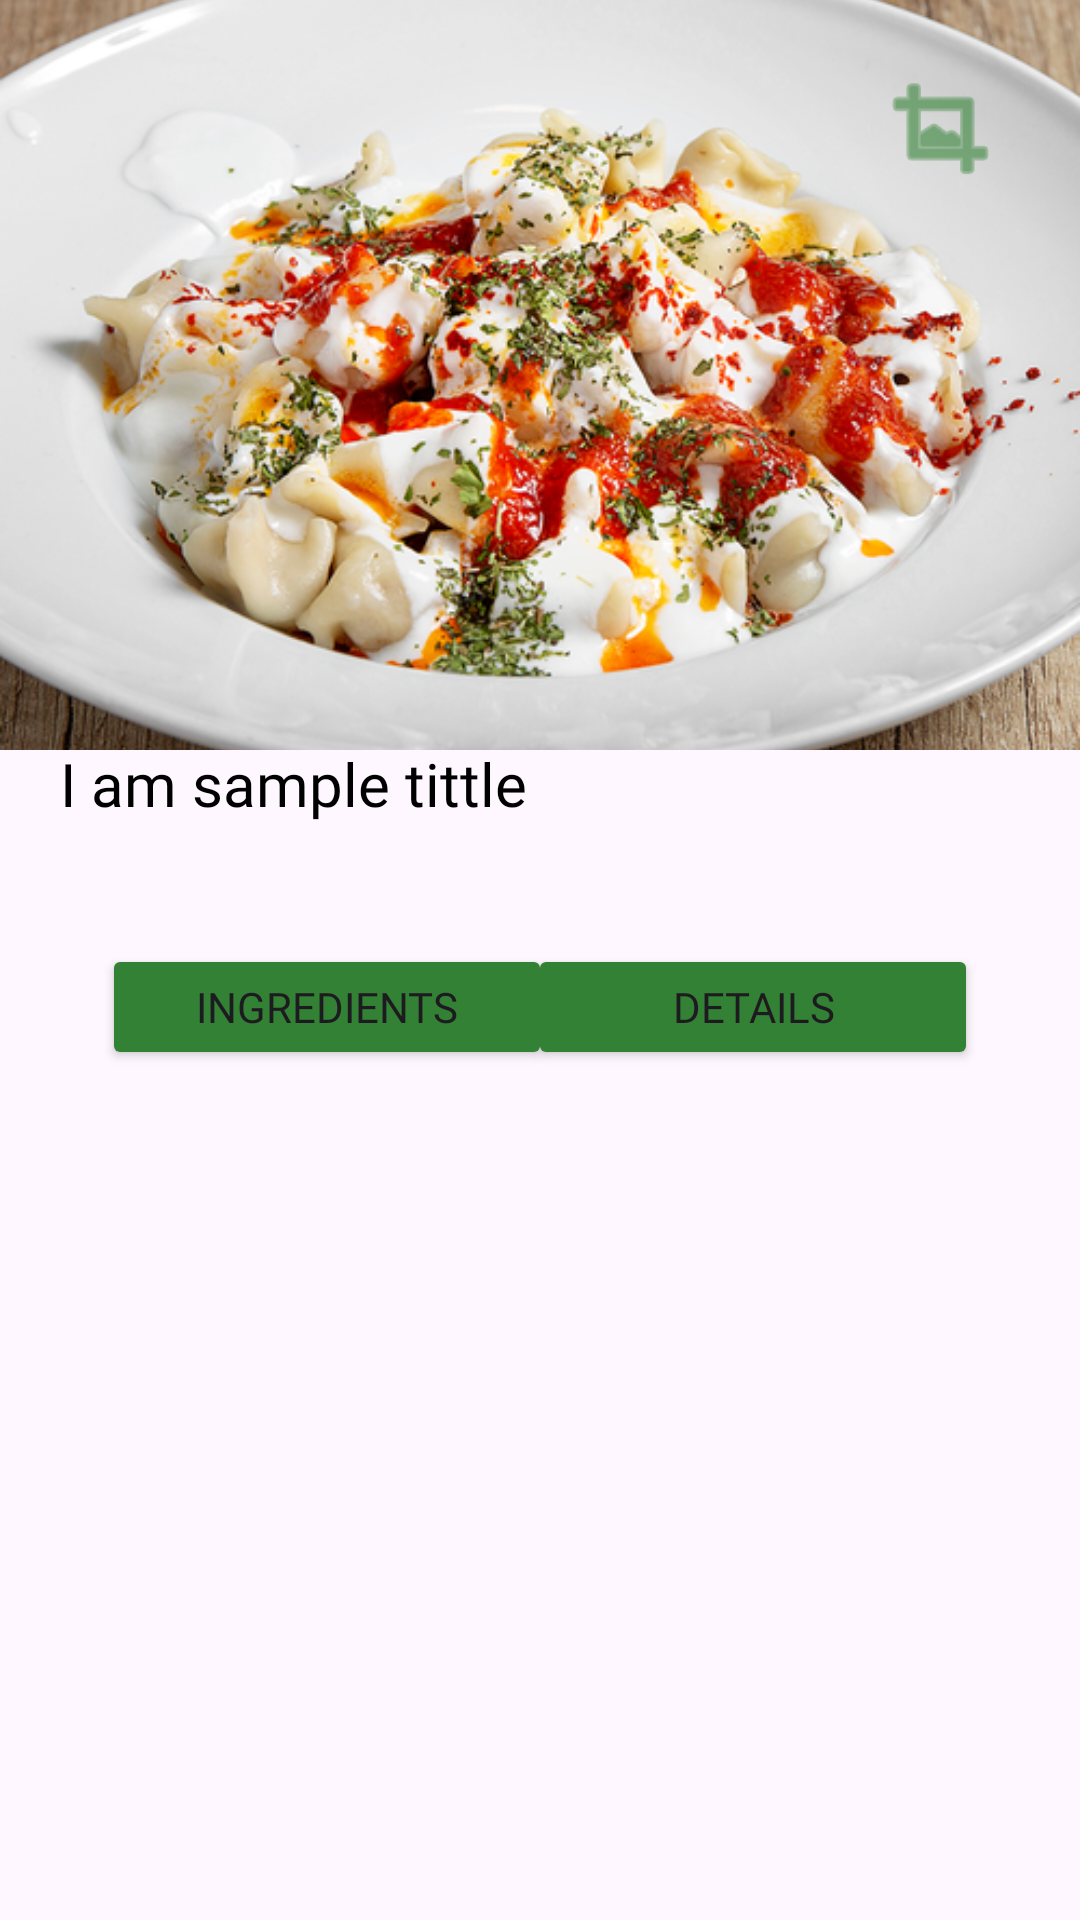

Icons on this 1080x1920 Android screen, each with its box as (x1, y1, x2, y2):
crop: (893, 83, 989, 174)
